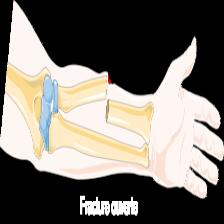open-compound-fracture: (0, 1, 224, 202)
